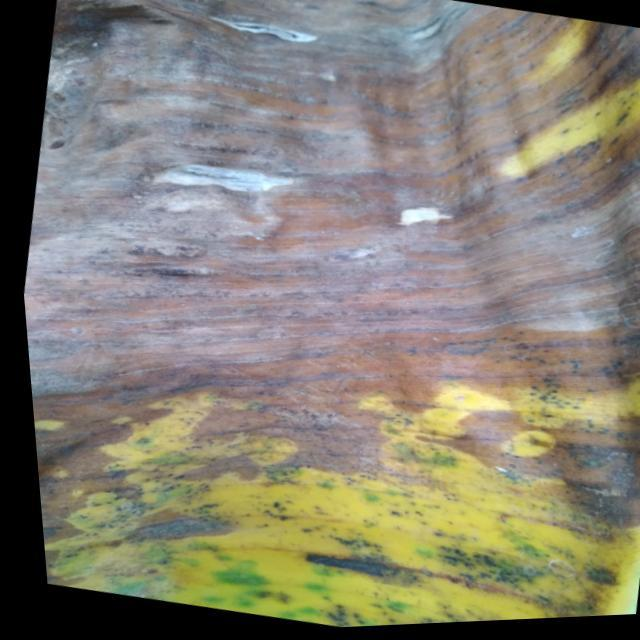Early_rust: (2, 17, 640, 640)
